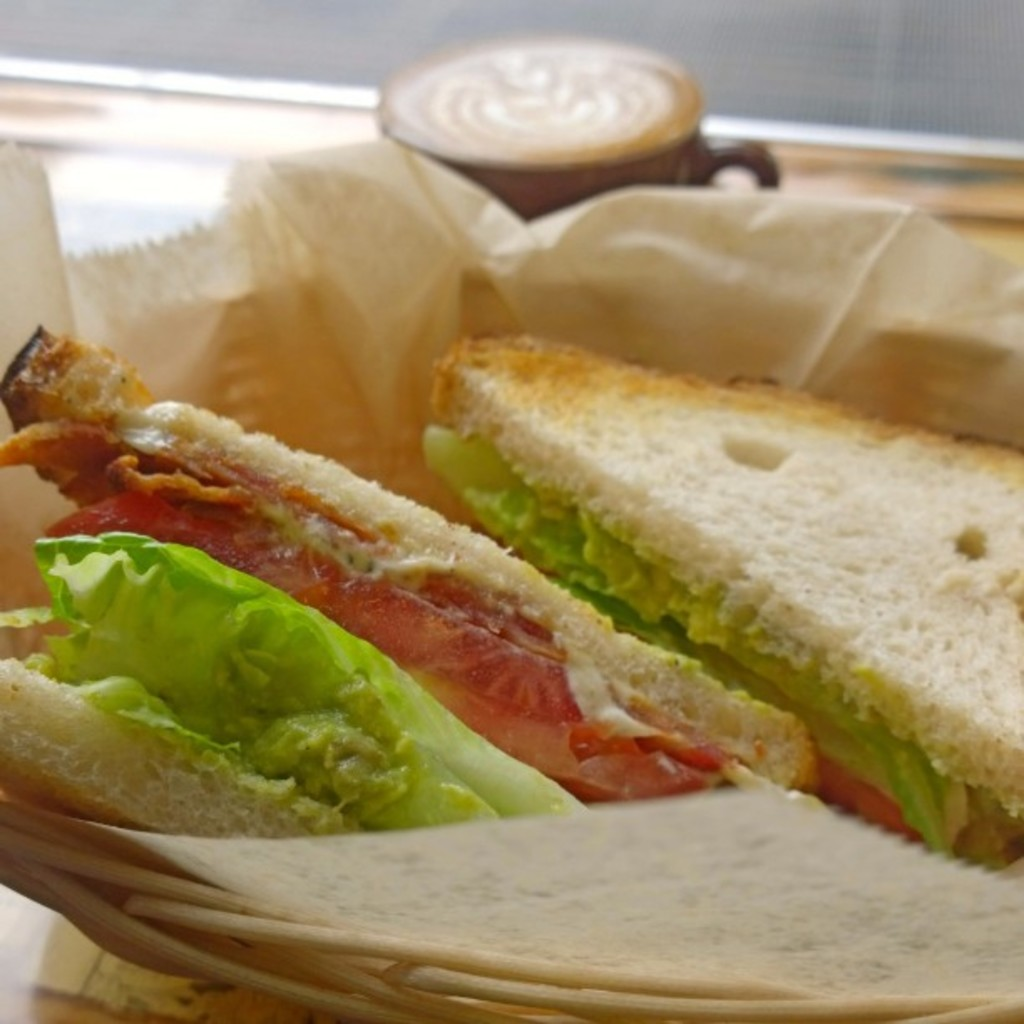sandwich: (0, 328, 808, 801), (427, 325, 1022, 867)
